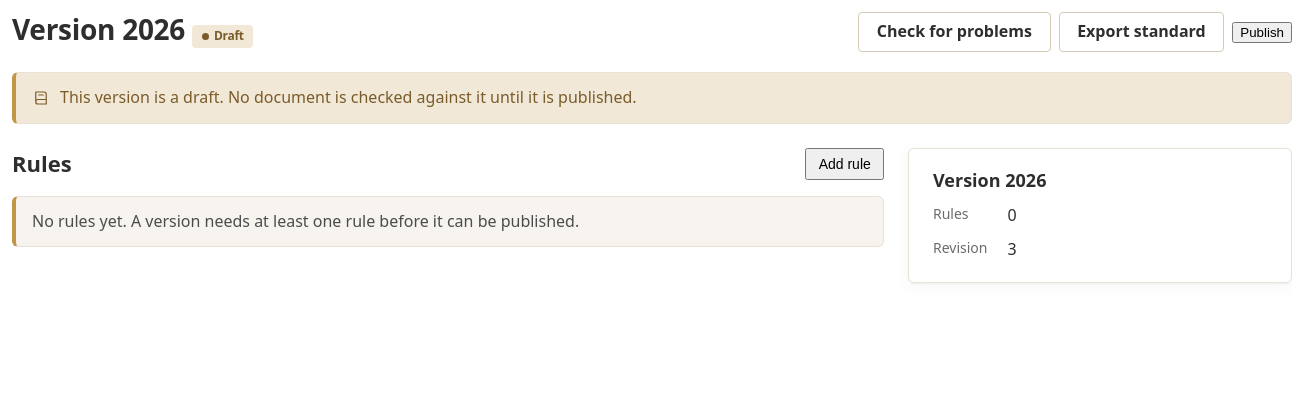
the draft’s publish verdict › shows the empty draft as not ready, in the reader’s language
Step 1. Click the button "Check for problems" → (954, 32), box [858, 12, 1051, 52]
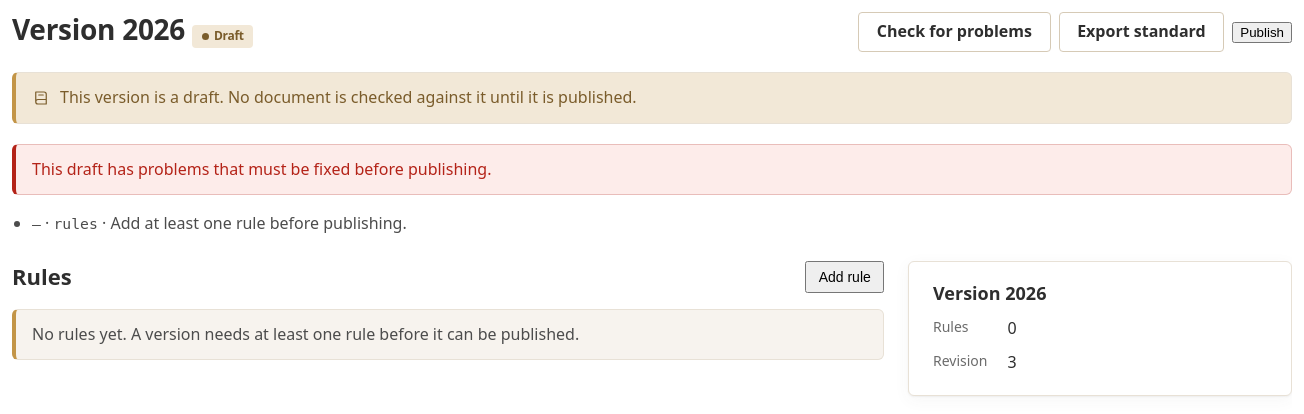
Expected: the text "This draft has problems that must be fixed before publishing." is shown, [12, 144, 1292, 195]
Expected: the list item "Add at least one rule before publishing." is shown, [110, 212, 407, 234]
